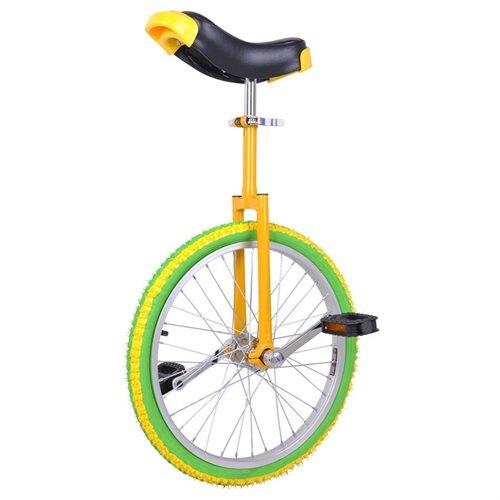seat: (144, 7, 315, 81)
wheel: (129, 221, 361, 487)
